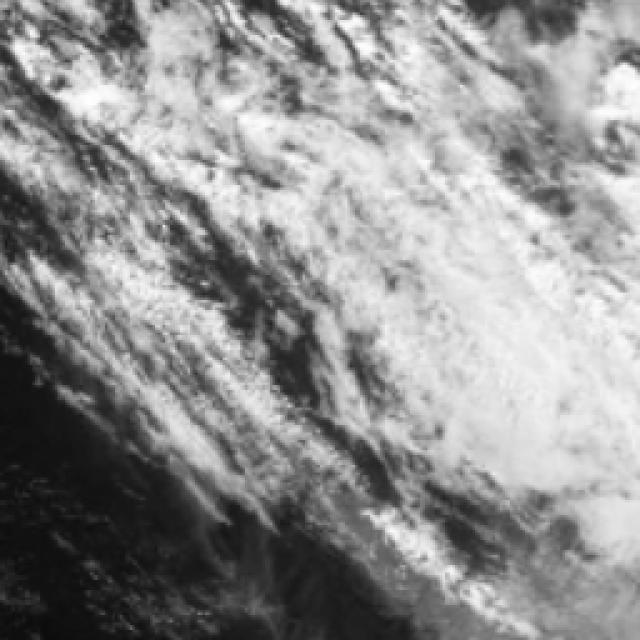CB: (442, 269, 640, 482), (322, 162, 523, 330)
